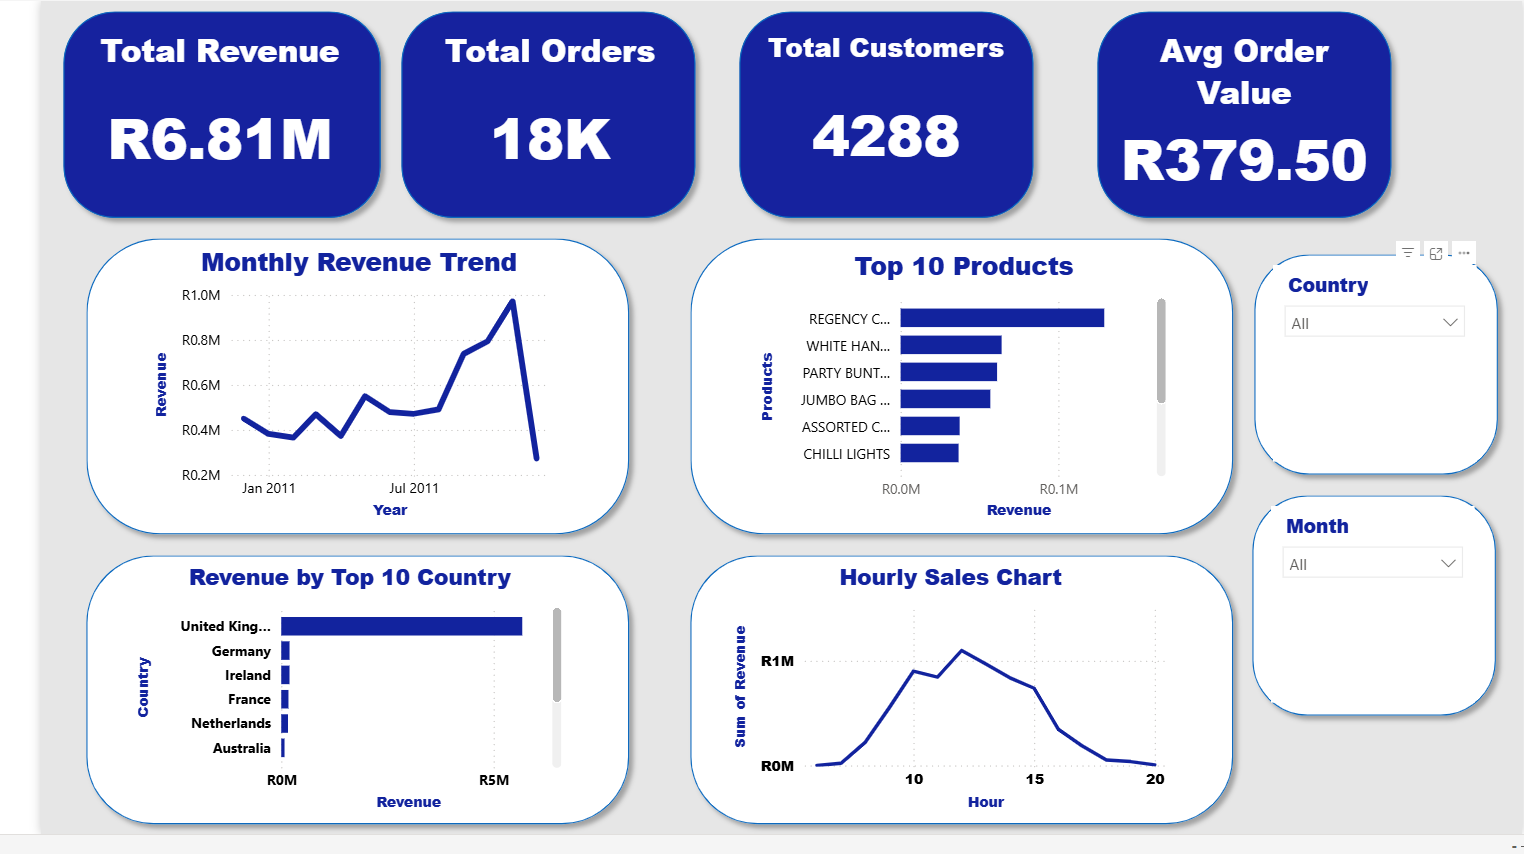

The dashboard page shown, as its layout file describes it:
{"tool":"powerbi","page":{"name":"Page 1","canvas":[1280,720],"ordinal":0},"visuals":[{"type":"shape","box":[10.1,0,292.3,196.5],"z":0},{"type":"shape","box":[302.4,0,272.1,196.5],"z":1},{"type":"shape","box":[594.6,0,272.1,196.5],"z":2},{"type":"shape","box":[903.7,0,272.1,196.5],"z":3},{"type":"shape","box":[30.2,196.5,487.1,273.8],"z":4},{"type":"shape","box":[30.2,470.3,487.1,250.3],"z":5},{"type":"shape","box":[1039.8,210,228.5,208.3],"z":6},{"type":"shape","box":[552.7,196.5,487.1,273.8],"z":7},{"type":"shape","box":[552.7,470.3,487.1,250.3],"z":8},{"type":"card","title":"Total Revenue","fields":{"Values":["powerbi_master_cleanssTask1.Total Revenue"]},"box":[33.6,23.5,241.9,149.5],"z":10},{"type":"card","title":"Total Orders","fields":{"Values":["powerbi_master_cleanssTask1.Total Orders"]},"box":[327.6,23.5,225.1,149.5],"z":11},{"type":"card","title":"Total Customers","fields":{"Values":["powerbi_master_cleanssTask1.Total Customers"]},"box":[618.2,23.5,225.1,149.5],"z":12},{"type":"card","title":"Total Revenue","fields":{"Values":["powerbi_master_cleanssTask1.Avg Order Value"]},"box":[927.2,23.5,225.1,149.5],"z":13},{"type":"lineChart","title":"Monthly Revenue Trend","fields":{"Y":["Sum(powerbi_master_cleanssTask1.Revenue)"],"Category":["powerbi_master_cleanssTask1.MonthYear.Variation.Date Hierarchy.Year","powerbi_master_cleanssTask1.MonthYear.Variation.Date Hierarchy.Quarter","powerbi_master_cleanssTask1.MonthYear.Variation.Date Hierarchy.Month","powerbi_master_cleanssTask1.MonthYear.Variation.Date Hierarchy.Day"]},"box":[94.1,210,361.2,243.6],"z":14},{"type":"barChart","title":"Top 10 Products","fields":{"Category":["powerbi_master_cleanssTask1.Description"],"Y":["Sum(powerbi_master_cleanssTask1.Revenue)"]},"box":[618.2,213.3,359.5,240.2],"z":15},{"type":"barChart","title":"Revenue by Top 10 Country","fields":{"Category":["powerbi_master_cleanssTask1.Country"],"Y":["Sum(powerbi_master_cleanssTask1.Revenue)"]},"box":[79,483.8,376.3,221.7],"z":16},{"type":"lineChart","title":"Hourly Sales Chart","fields":{"Category":["powerbi_master_cleanssTask1.Hour"],"Y":["Sum(powerbi_master_cleanssTask1.Revenue)"]},"box":[594.6,483.8,383,221.7],"z":17},{"type":"slicer","fields":{"Values":["powerbi_master_cleanssTask1.Country"]},"box":[1065,228.5,176.4,169.7],"z":18},{"type":"shape","box":[1038.1,418.3,228.5,208.3],"z":19},{"type":"slicer","fields":{"Values":["powerbi_master_cleanssTask1.MonthYear"]},"box":[1063.3,436.7,176.4,169.7],"z":20}]}

Visuals, with their boxes in screenshot pixels (x1, y1, x2, y2), scaled from the page's 1280x720 canvas onto the 1524x854 screenshot:
shape: [12,0,360,233]
shape: [360,0,684,233]
shape: [708,0,1032,233]
shape: [1076,0,1400,233]
shape: [36,233,616,558]
shape: [36,558,616,853]
shape: [1238,249,1510,496]
shape: [658,233,1238,558]
shape: [658,558,1238,853]
"Total Revenue" card: [40,28,328,205]
"Total Orders" card: [390,28,658,205]
"Total Customers" card: [736,28,1004,205]
"Total Revenue" card: [1104,28,1372,205]
"Monthly Revenue Trend" lineChart: [112,249,542,538]
"Top 10 Products" barChart: [736,253,1164,538]
"Revenue by Top 10 Country" barChart: [94,574,542,837]
"Hourly Sales Chart" lineChart: [708,574,1164,837]
slicer - powerbi_master_cleanssTask1.Country: [1268,271,1478,472]
shape: [1236,496,1508,743]
slicer - powerbi_master_cleanssTask1.MonthYear: [1266,518,1476,719]
